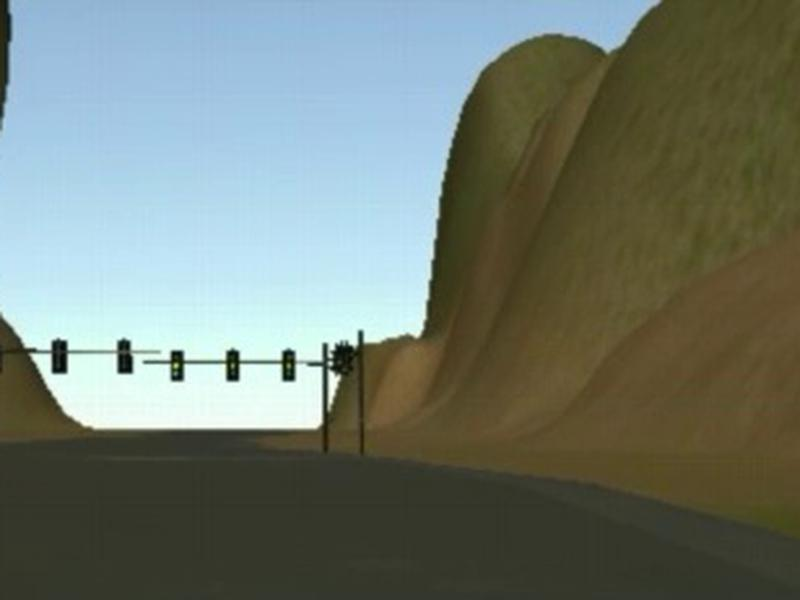Yellow: (226, 350, 240, 381), (171, 349, 184, 381), (283, 349, 296, 380)
